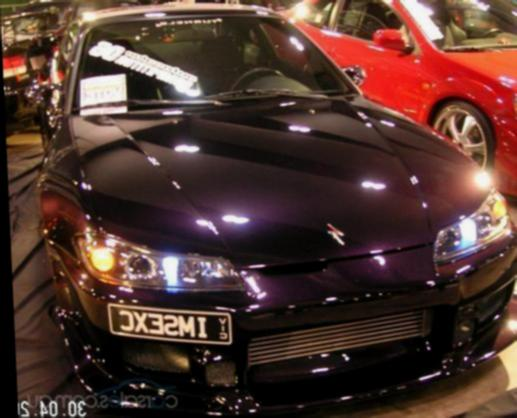License_Plate: (99, 302, 241, 355)
